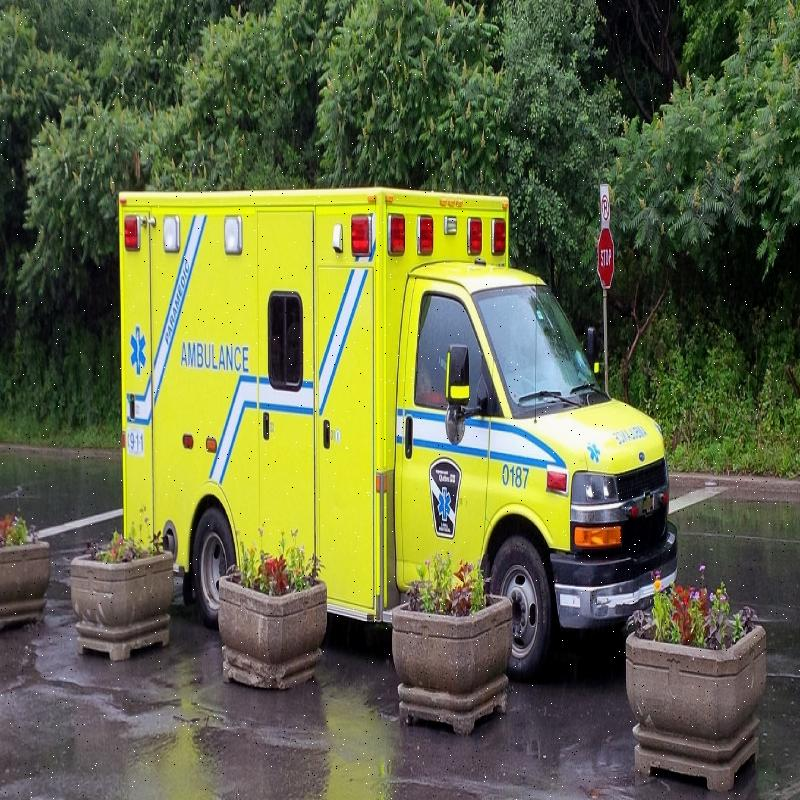ambulance: (138, 195, 638, 658)
